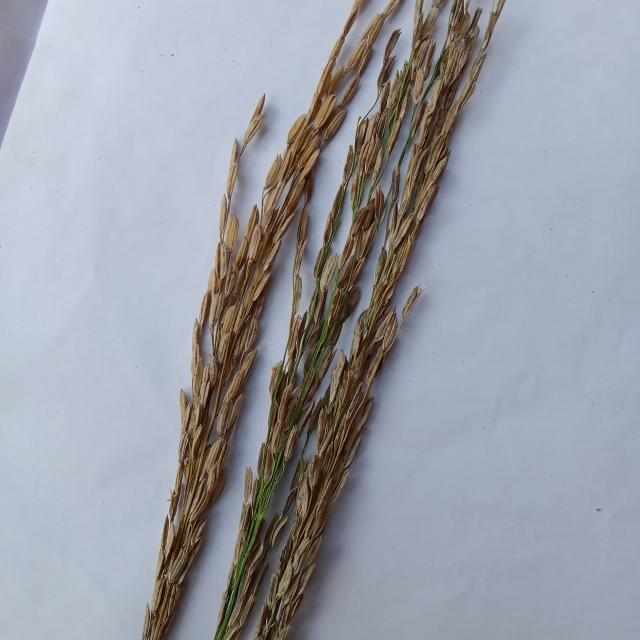Neck_Blast: (228, 8, 505, 636)
